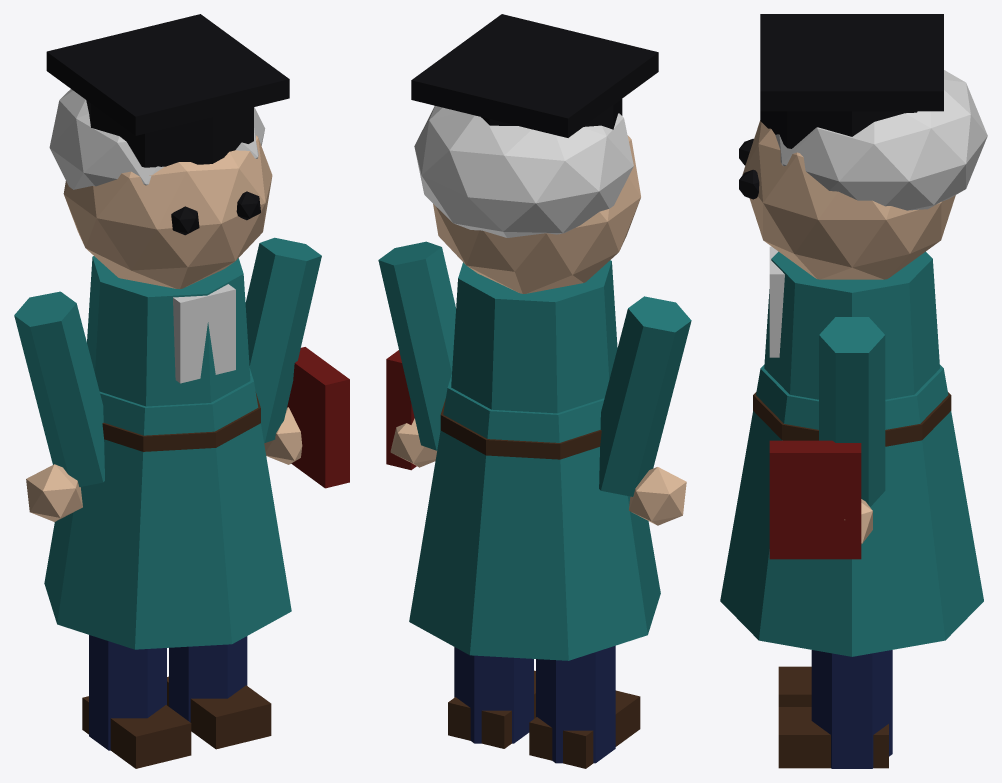
File: SM_GZ_npc_candidate_2.fbx
3 views of the same model, side by side, from view 1: azimuth 30°, elevation 25°; view 2: azimuth 150°, elevation 25°; view 3: azimuth 270°, elevation 25° (orthographic). The views are drawn at different scales.
Visible parts, largest first — view 1: SM_GZ_npc_candidate_2; view 2: SM_GZ_npc_candidate_2; view 3: SM_GZ_npc_candidate_2.
Boxes of the visible parts, x1=… form: SM_GZ_npc_candidate_2: x1=14, y1=14, x2=349, y2=768; SM_GZ_npc_candidate_2: x1=378, y1=14, x2=691, y2=768; SM_GZ_npc_candidate_2: x1=720, y1=14, x2=987, y2=768.
Size of the model in its own units: 94.71 by 205 by 73.
